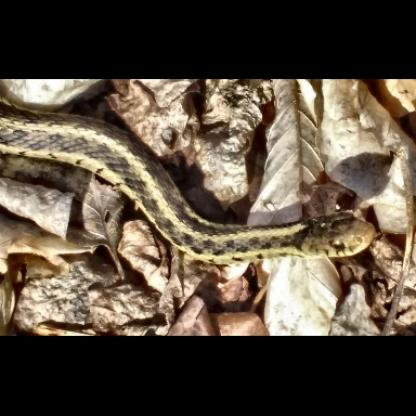Snake: (0, 102, 376, 267)
